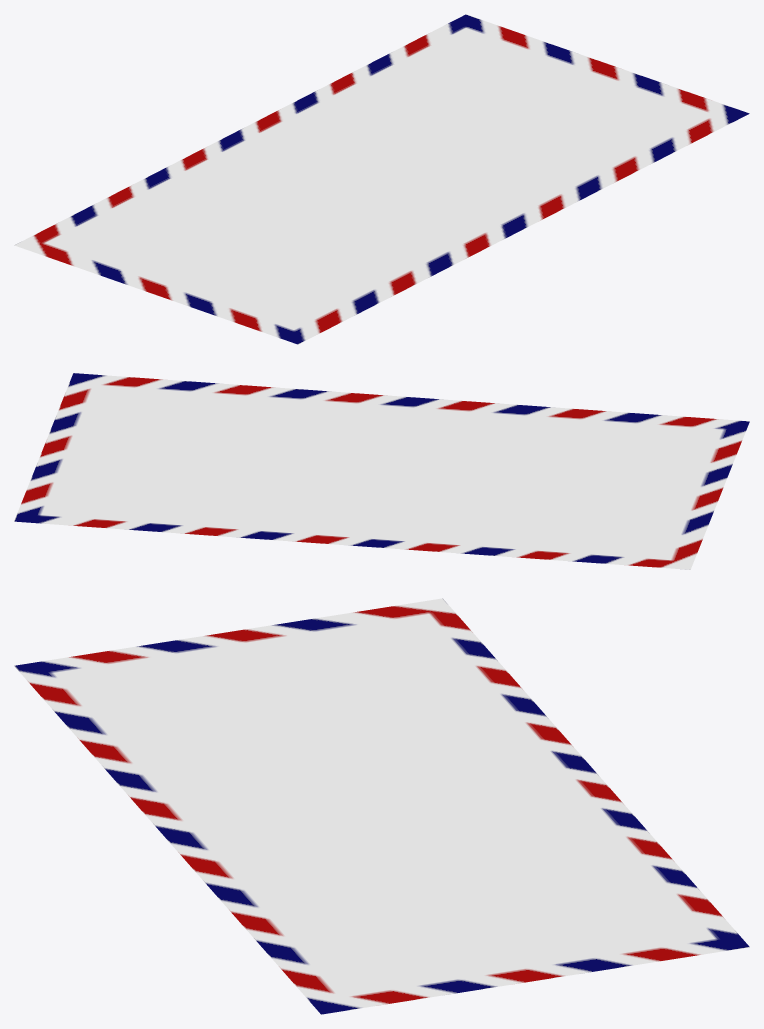
The model's file is via_air_mail.glb.
3 views of the same model, one above another, from view 1: azimuth 30°, elevation 25°; view 2: azimuth 150°, elevation 25°; view 3: azimuth 270°, elevation 25° (orthographic). The views are drawn at different scales.
Parts seen in each view (by area): view 1: via_air_mail; view 2: via_air_mail; view 3: via_air_mail.
Boxes of the visible parts, left/top/right/bottom form: via_air_mail: left=14, top=14, right=749, bottom=344; via_air_mail: left=14, top=373, right=749, bottom=569; via_air_mail: left=14, top=598, right=749, bottom=1014.
Bounding box in the file's own units: 3.09 × 0 × 2.31.
Materials: 1 (1 with a texture image).
